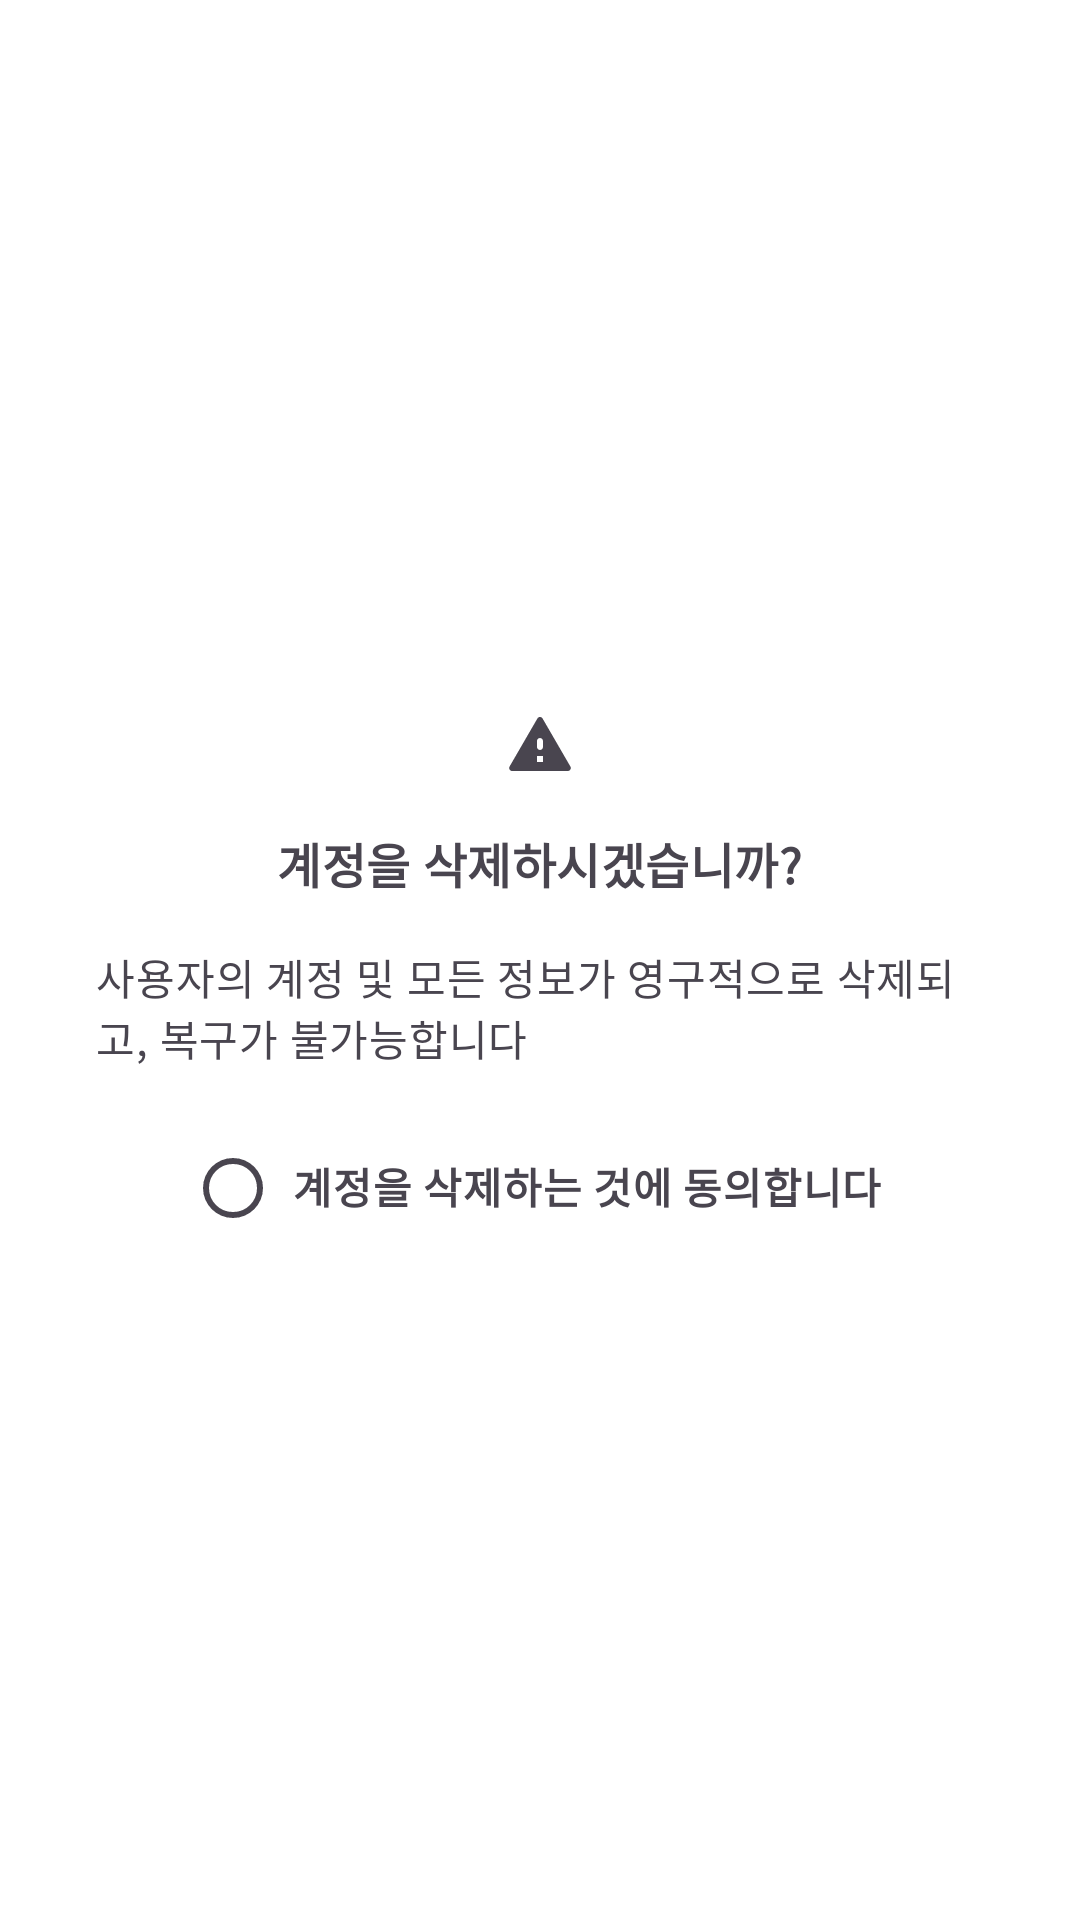

Where icons sit on this 1080×1920 app screen, as [x1=x1, y1=y1, x2=x2, y2=y2]:
alert: [x1=509, y1=717, x2=571, y2=771]
